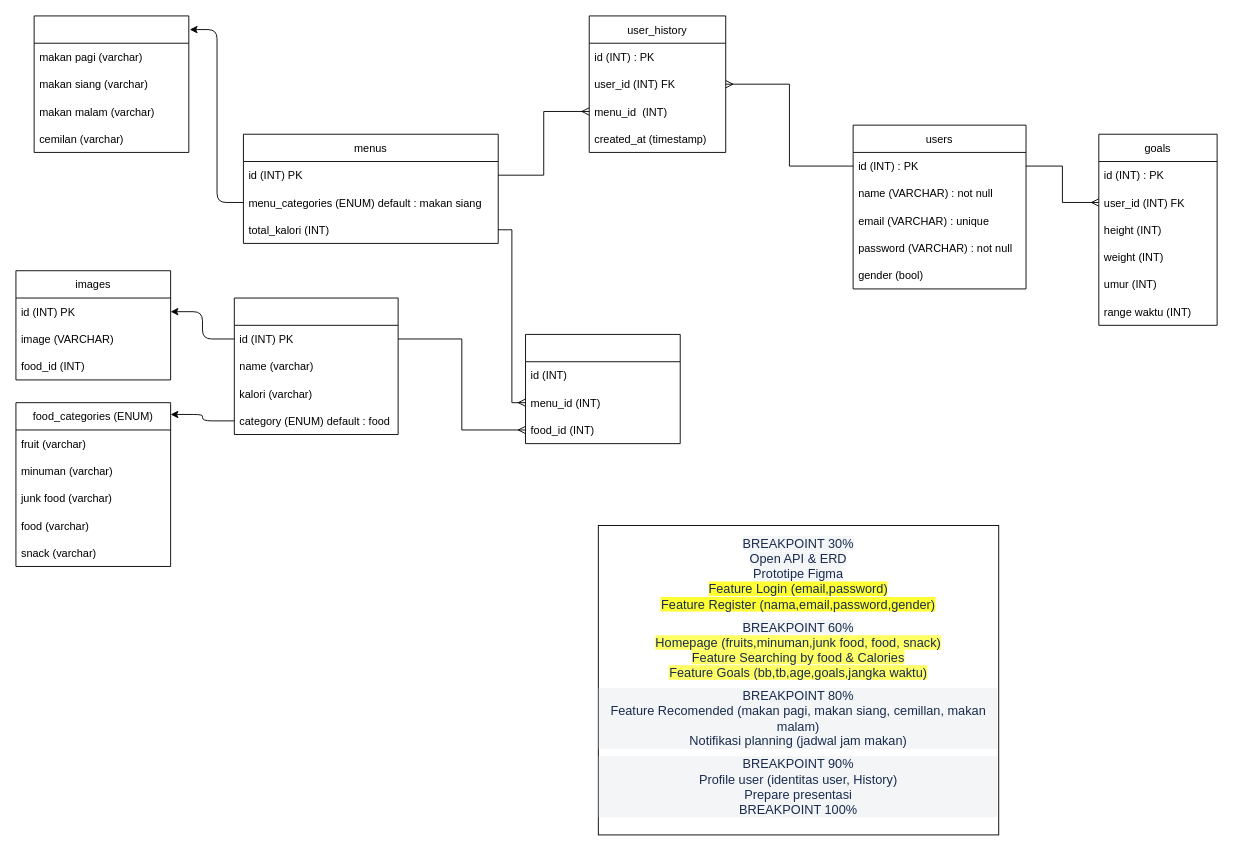
Image size: 1233x851. Some labels were removed from this diagram. Each missing label, with the box of its shape:
detail_menus: (525, 334, 680, 444)
foods: (233, 297, 398, 435)
menu_categories (ENUM): (33, 15, 189, 152)
